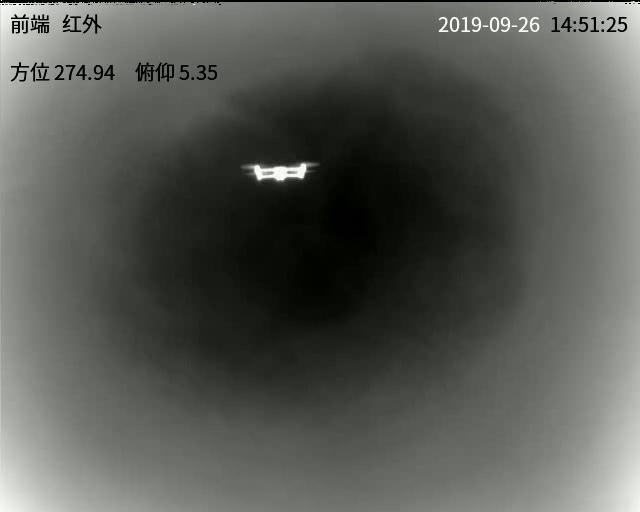DRONE: (247, 161, 311, 183)
